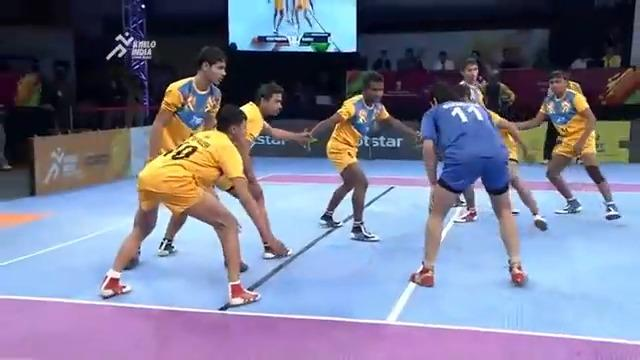Player: (97, 102, 287, 307), (303, 69, 421, 244), (144, 44, 230, 266), (506, 67, 624, 222)
Raider: (408, 80, 528, 288)
